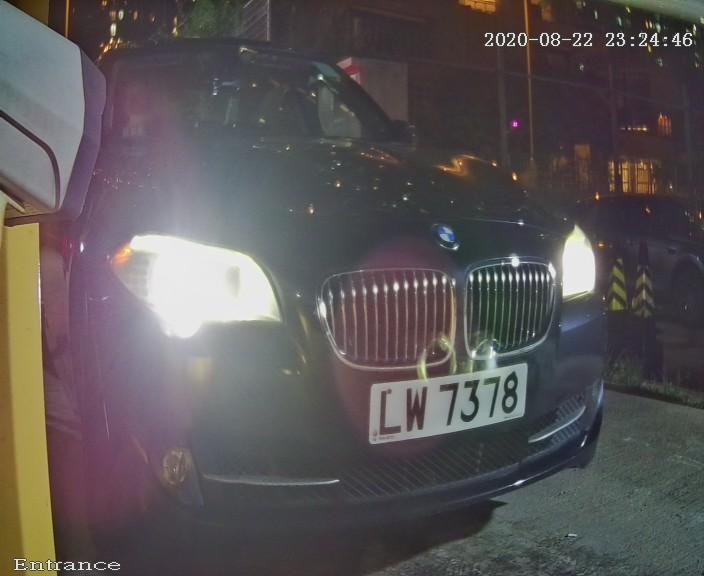License Plate: (343, 319, 544, 445)
